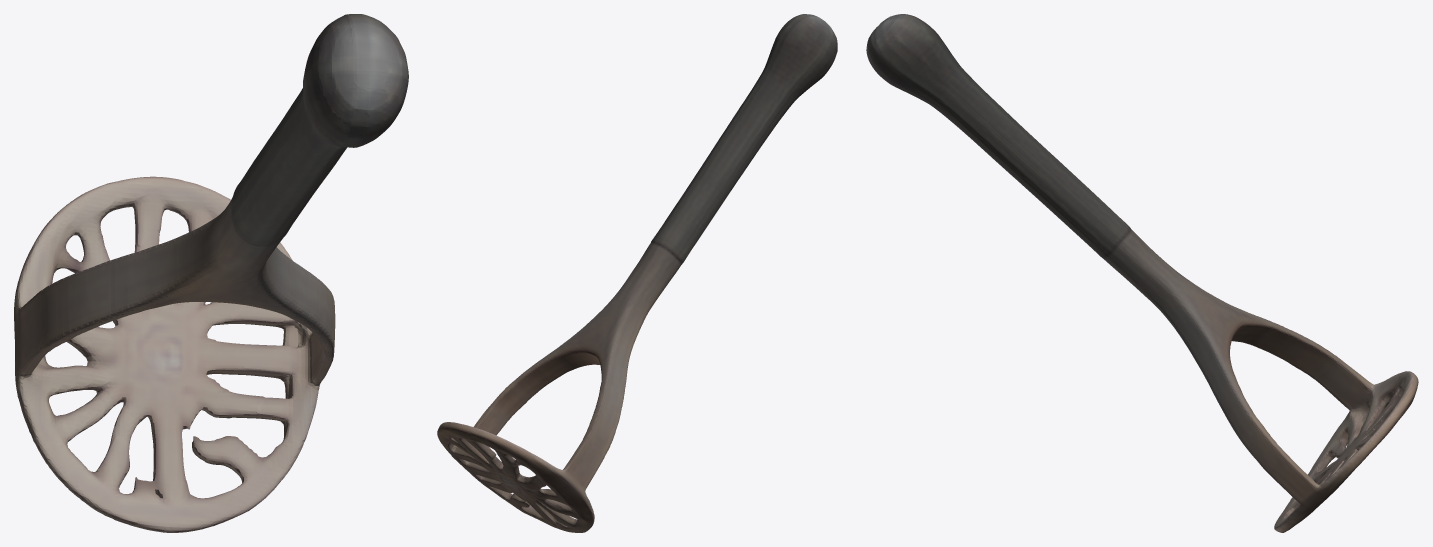
The model's file is frame_0036_source_000036_object.glb.
The picture shows the model from 3 angles, left to right: view 1: azimuth 30°, elevation 25°; view 2: azimuth 150°, elevation 25°; view 3: azimuth 270°, elevation 25°; orthographic projection. The views are drawn at different scales.
Parts seen in each view (by area): view 1: world; view 2: world; view 3: world.
Boxes of the visible parts, bbox=[...] form: world: bbox=[14, 14, 408, 532]; world: bbox=[437, 14, 837, 532]; world: bbox=[866, 14, 1418, 532].
Size of the model in its own units: 0.0976 by 0.1996 by 0.2164.
